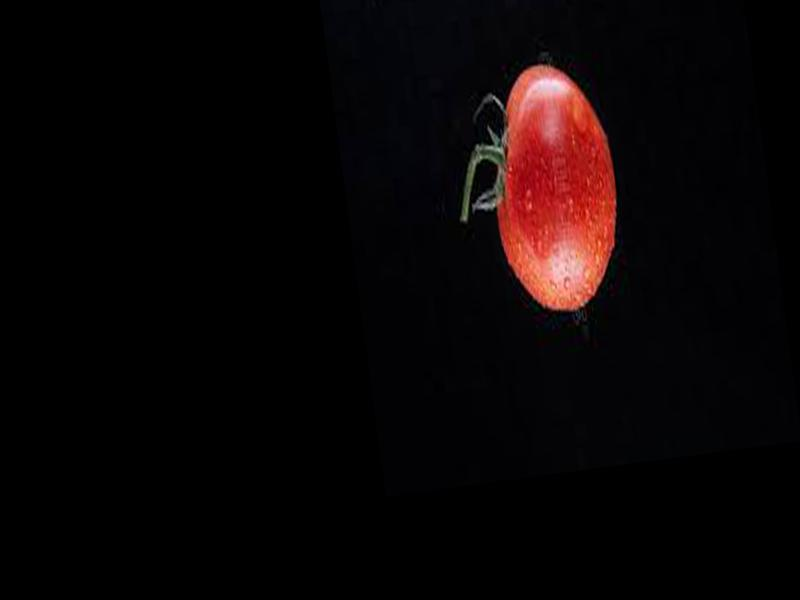Tomato: (477, 57, 631, 319)
